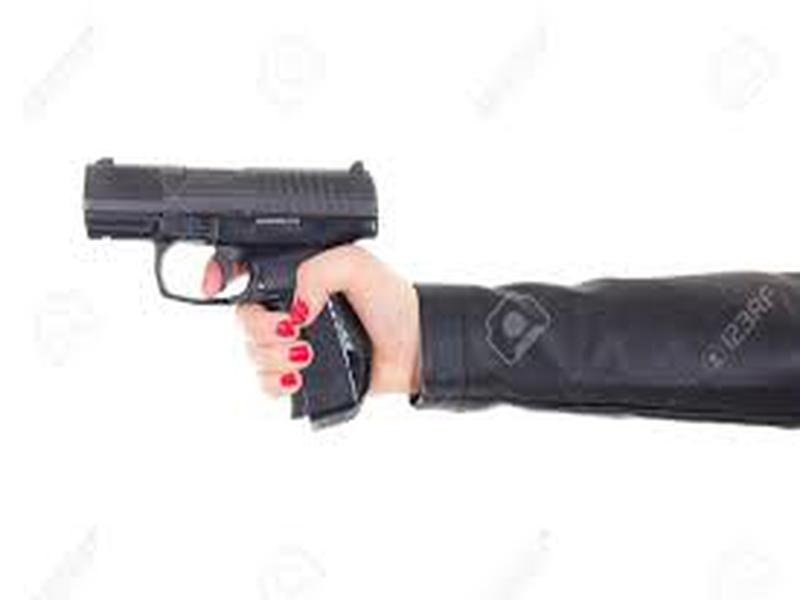gun: (80, 154, 463, 428)
